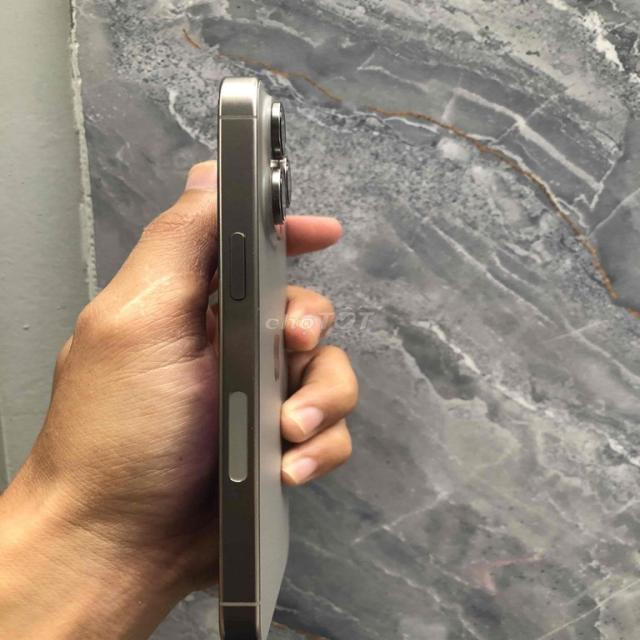gen_15: (160, 68, 309, 639)
